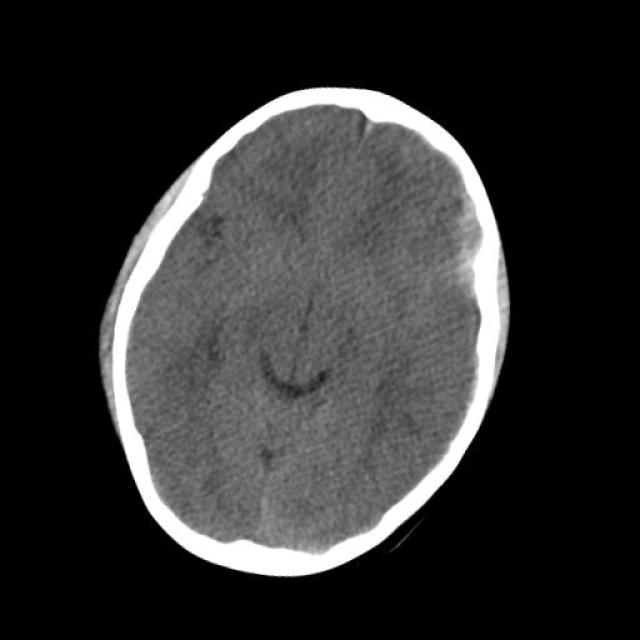Subdural: (415, 164, 545, 341)
